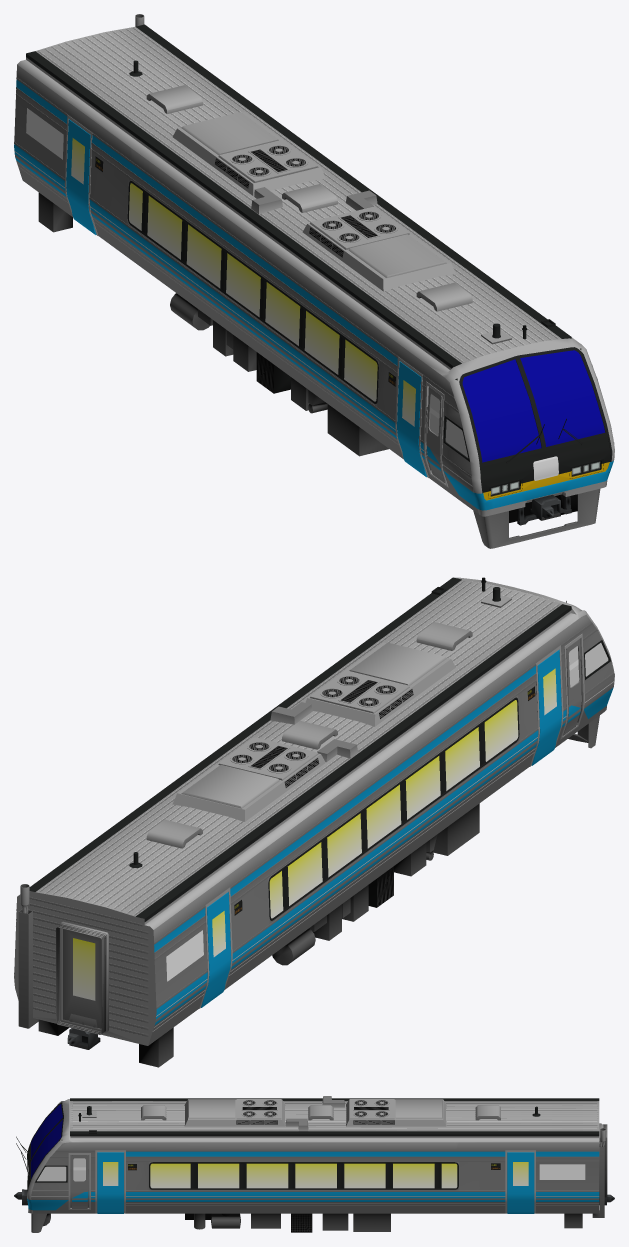
The picture shows the model from 3 angles, top to bottom: view 1: azimuth 30°, elevation 25°; view 2: azimuth 150°, elevation 25°; view 3: azimuth 270°, elevation 25°; orthographic projection. The views are drawn at different scales.
Parts seen in each view (by area): view 1: BODY; view 2: BODY; view 3: BODY.
Boxes of the visible parts, x1=… form: BODY: x1=14, y1=14, x2=614, y2=548; BODY: x1=14, y1=577, x2=614, y2=1067; BODY: x1=14, y1=1096, x2=614, y2=1232.
Size of the model in its own units: 7.31 by 8.66 by 42.77.
40 materials, 38 textured.
